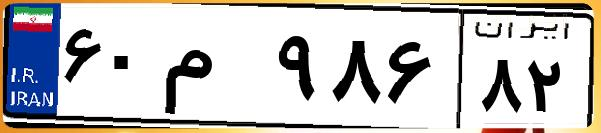0: (110, 28, 158, 98)
2: (525, 38, 570, 115)
6: (385, 28, 445, 110), (57, 26, 110, 100)
8: (330, 28, 385, 110), (475, 38, 525, 113)
9: (270, 28, 330, 110)
م: (158, 20, 270, 120)
